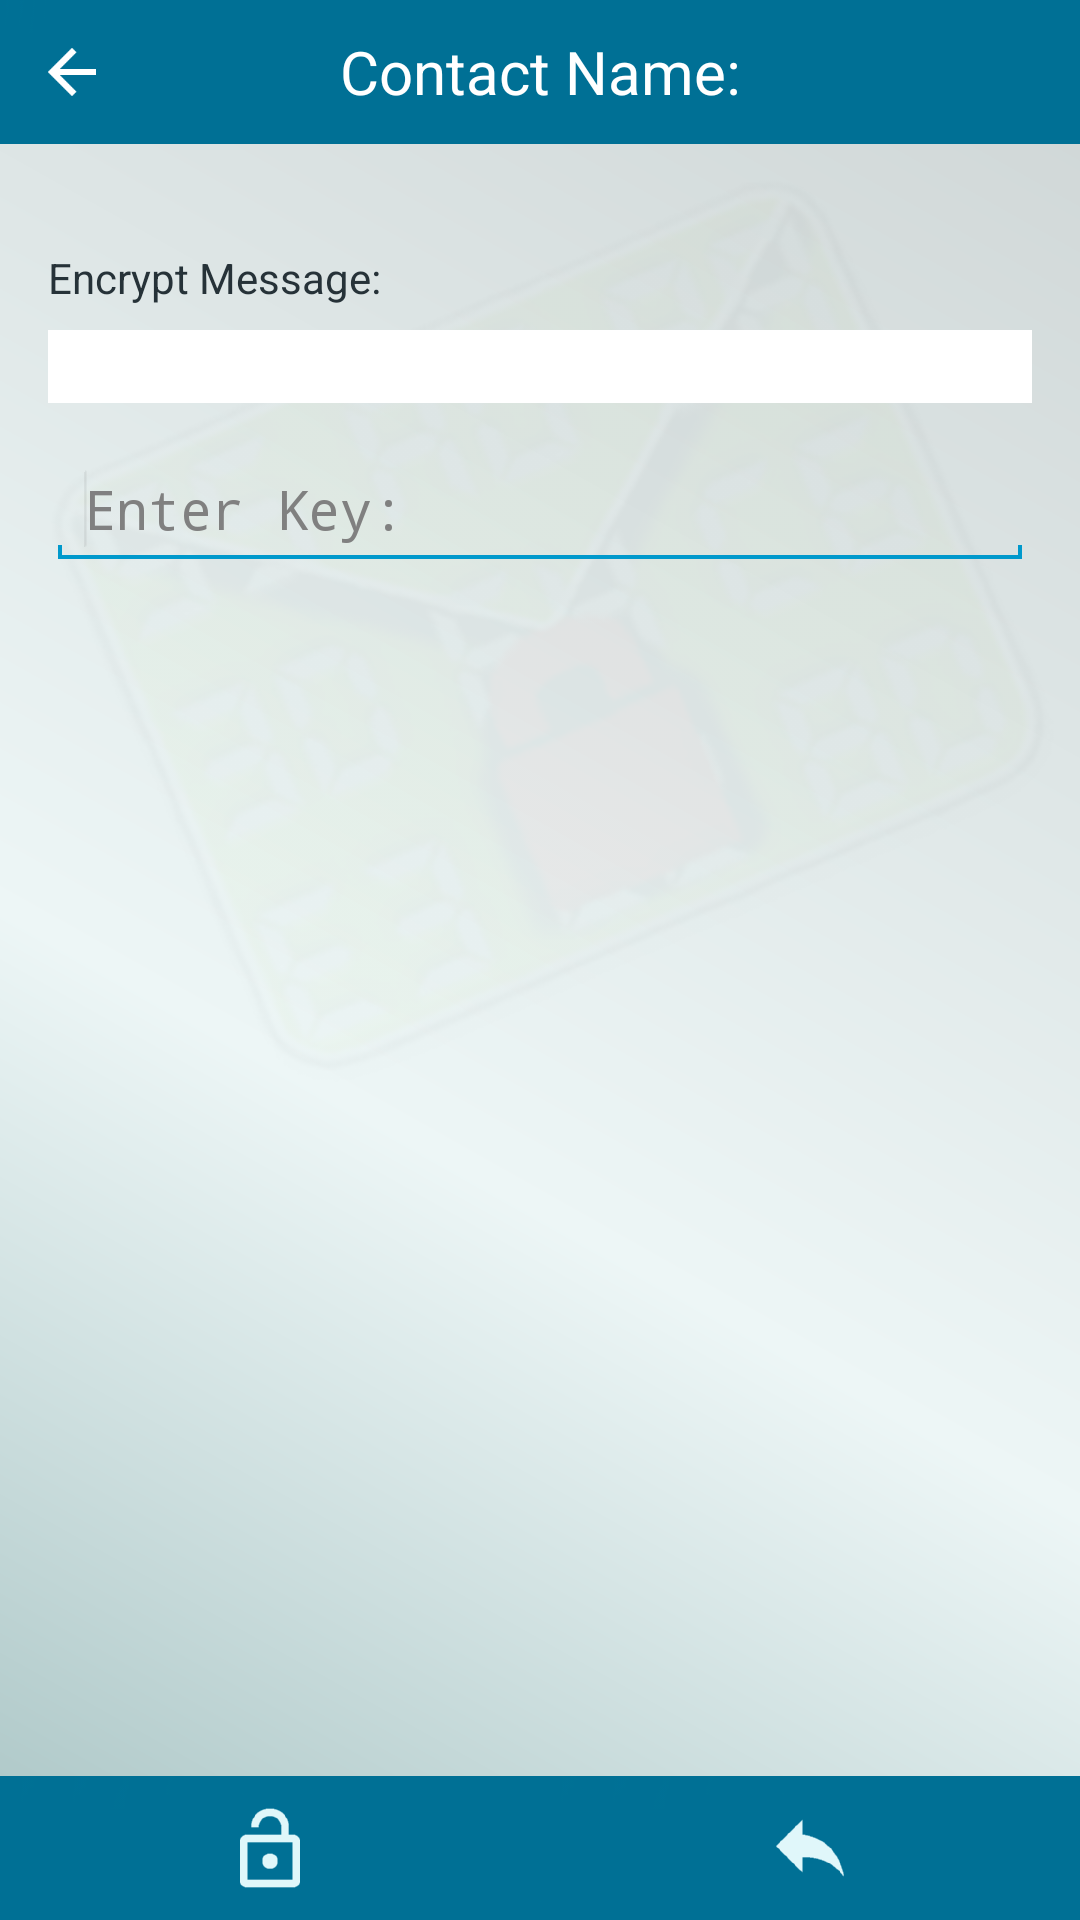

Point at icon controls on the screen. Image size 1080×1920, points as [x,y].
Back: [72,72]
